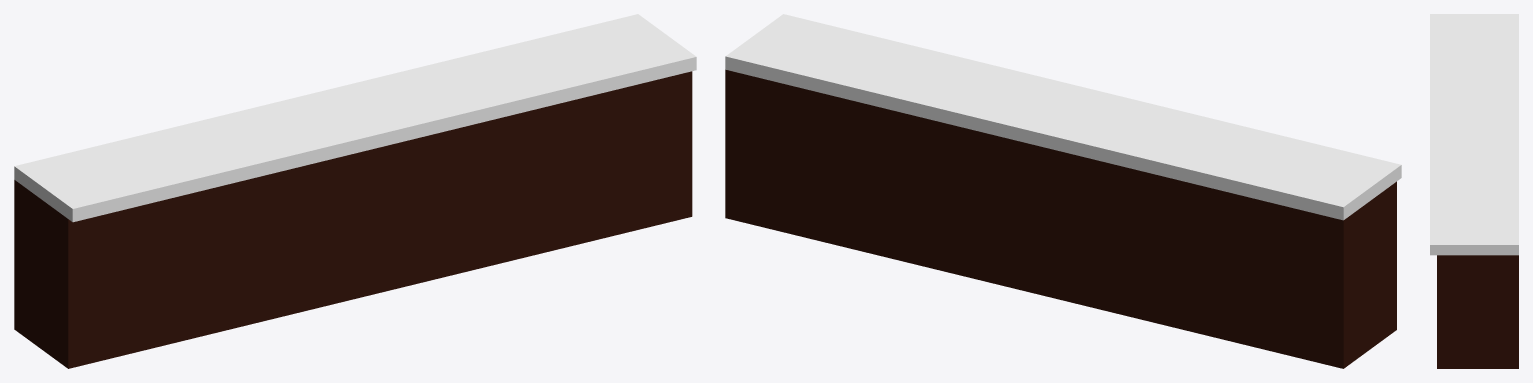
The model's file is kitchenCounter.fbx.
3 renders of one model, left to right at view 1: azimuth 30°, elevation 25°; view 2: azimuth 150°, elevation 25°; view 3: azimuth 270°, elevation 25°, orthographic. The views are drawn at different scales.
Visible parts, largest first — view 1: KitchenCounter; view 2: KitchenCounter; view 3: KitchenCounter.
Part boxes in pixels (x1=…): KitchenCounter: x1=14, y1=14, x2=696, y2=368; KitchenCounter: x1=725, y1=14, x2=1401, y2=368; KitchenCounter: x1=1430, y1=14, x2=1518, y2=368.
Bounding box in the file's own units: 660 × 165 × 107.
